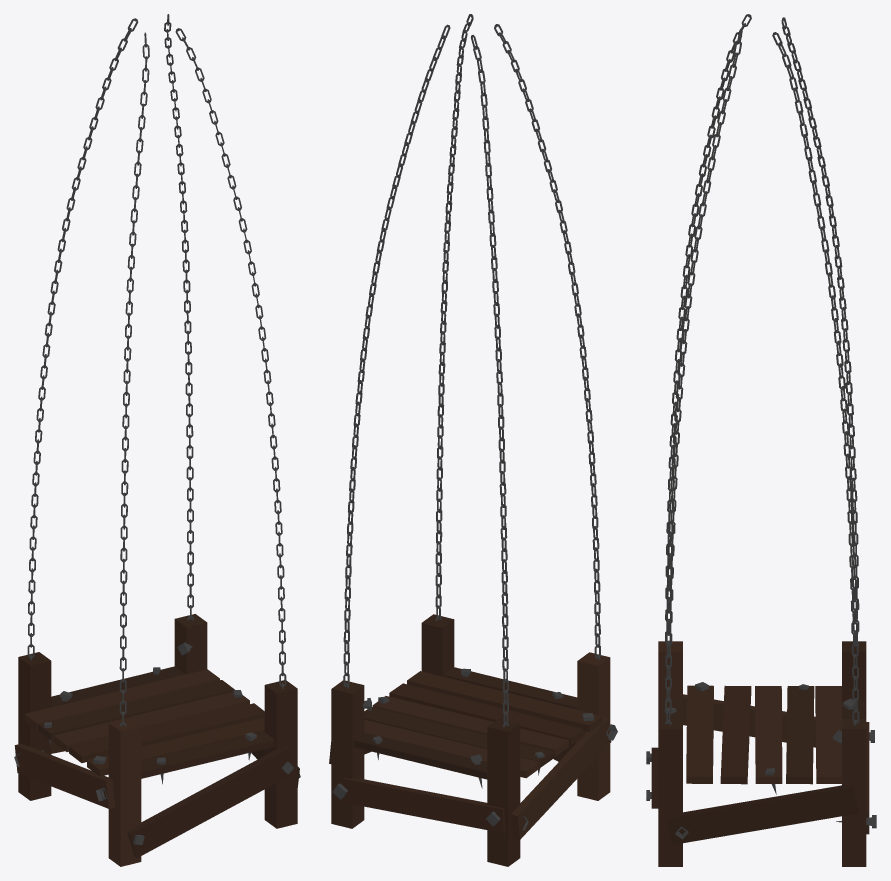
Rendered from HangingPlatform.glb.
The picture shows the model from 3 angles, left to right: view 1: azimuth 30°, elevation 25°; view 2: azimuth 150°, elevation 25°; view 3: azimuth 270°, elevation 25°; orthographic projection.
Visible parts, largest first — view 1: Cube.880; view 2: Cube.880; view 3: Cube.880.
Boxes of the visible parts, x1=… form: Cube.880: x1=14, y1=14, x2=300, y2=866; Cube.880: x1=329, y1=14, x2=617, y2=866; Cube.880: x1=646, y1=14, x2=876, y2=866.
Bounding box in the file's own units: 6.56 × 24.49 × 6.4.
1 material, 1 textured.
